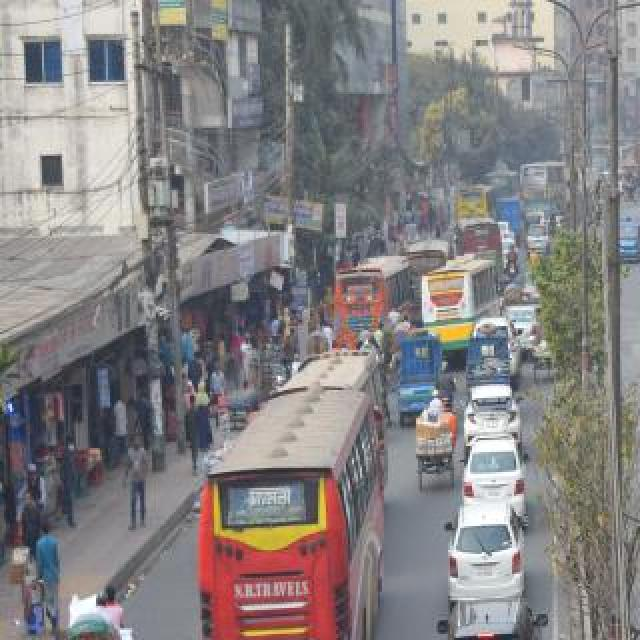bus: (162, 372, 412, 640), (252, 322, 402, 466), (316, 215, 418, 393), (401, 239, 511, 393), (384, 220, 452, 374), (459, 205, 517, 297), (515, 144, 573, 220), (443, 166, 507, 224), (472, 155, 526, 205)
car: (427, 484, 537, 628), (452, 378, 562, 480), (434, 578, 568, 640), (450, 431, 538, 523), (466, 290, 530, 392), (488, 287, 540, 363), (493, 196, 527, 264), (514, 209, 558, 259), (638, 176, 640, 218)
motorbike: (426, 352, 468, 442), (502, 233, 520, 303), (32, 624, 100, 640)
van: (379, 314, 447, 440), (449, 316, 521, 398), (590, 198, 640, 310), (70, 636, 268, 640)
